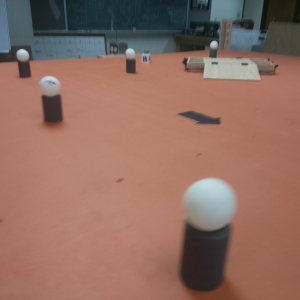obstacle: (179, 176, 231, 291), (39, 74, 63, 123), (17, 49, 32, 78), (126, 49, 137, 74), (207, 41, 219, 57)
side: (259, 53, 278, 76), (183, 56, 204, 72)
slope: (205, 61, 259, 81)
